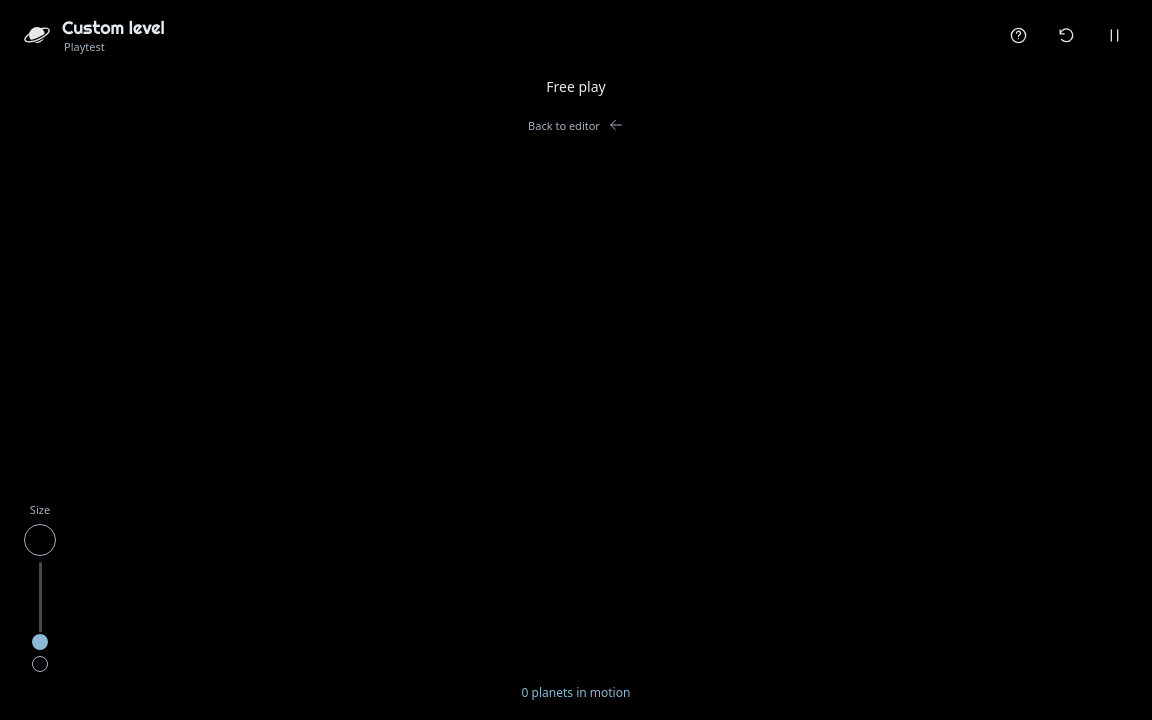
Test: live aim playback and touch feedback › suppresses Gravity feedback for blocked launches, pinch and pause cancellation
Step 1. Press the mouse on the drawing named "Gravity orbital field" → (576,360), box [0,0,1151,719]
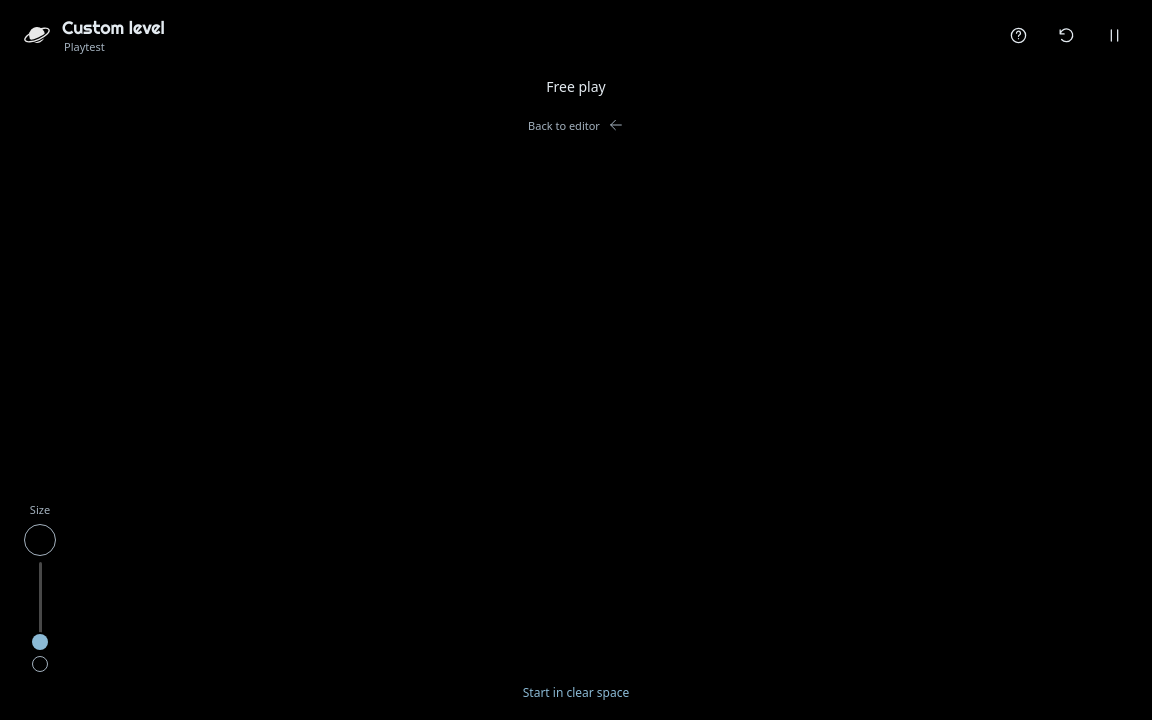
Step 2. Press the mouse on the drawing named "Gravity orbital field" → (576,360), box [0,0,1151,719]
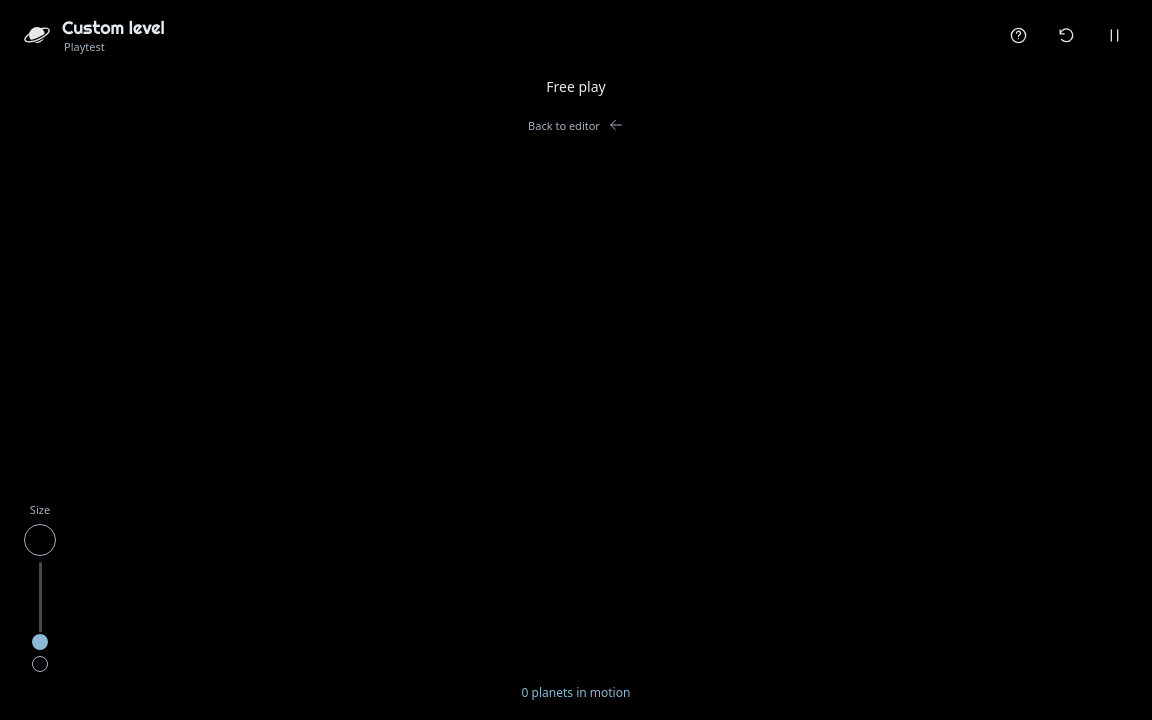
Step 3. Press the mouse on the drawing named "Gravity orbital field" → (576,360), box [0,0,1151,719]
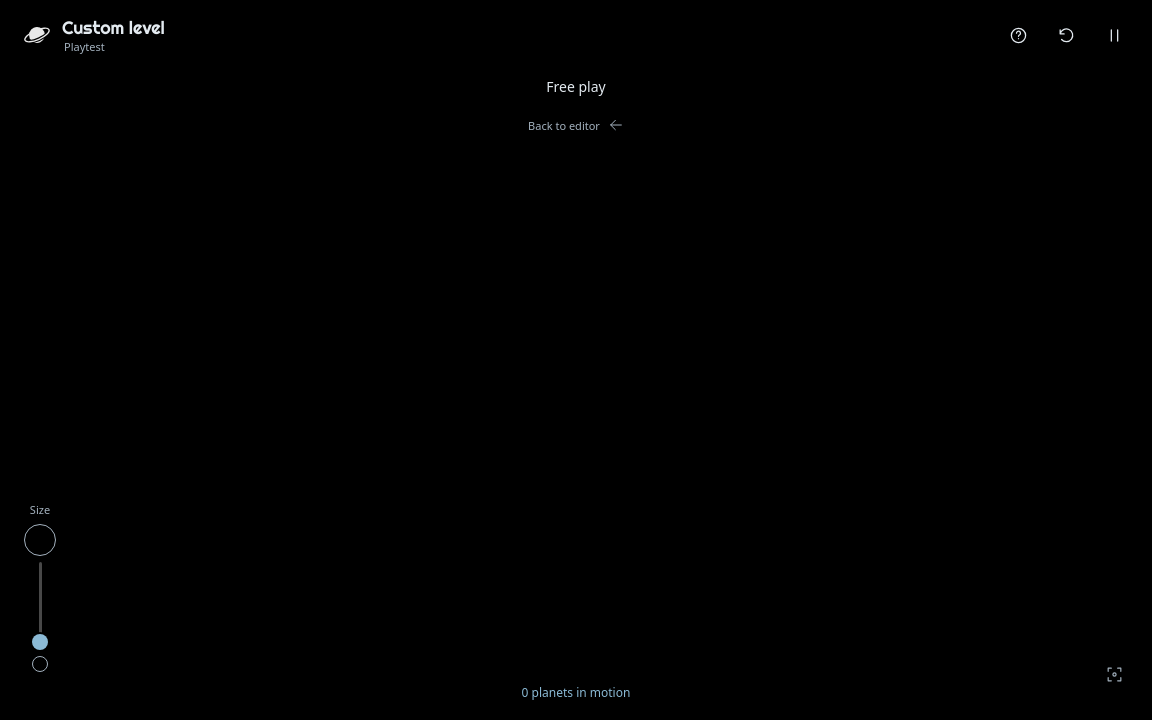
Step 4. Press the mouse on the drawing named "Gravity orbital field" → (576,360), box [0,0,1151,719]
Step 5. Click the button named "Pause" → (1114,35), box [1092,13,1136,57]
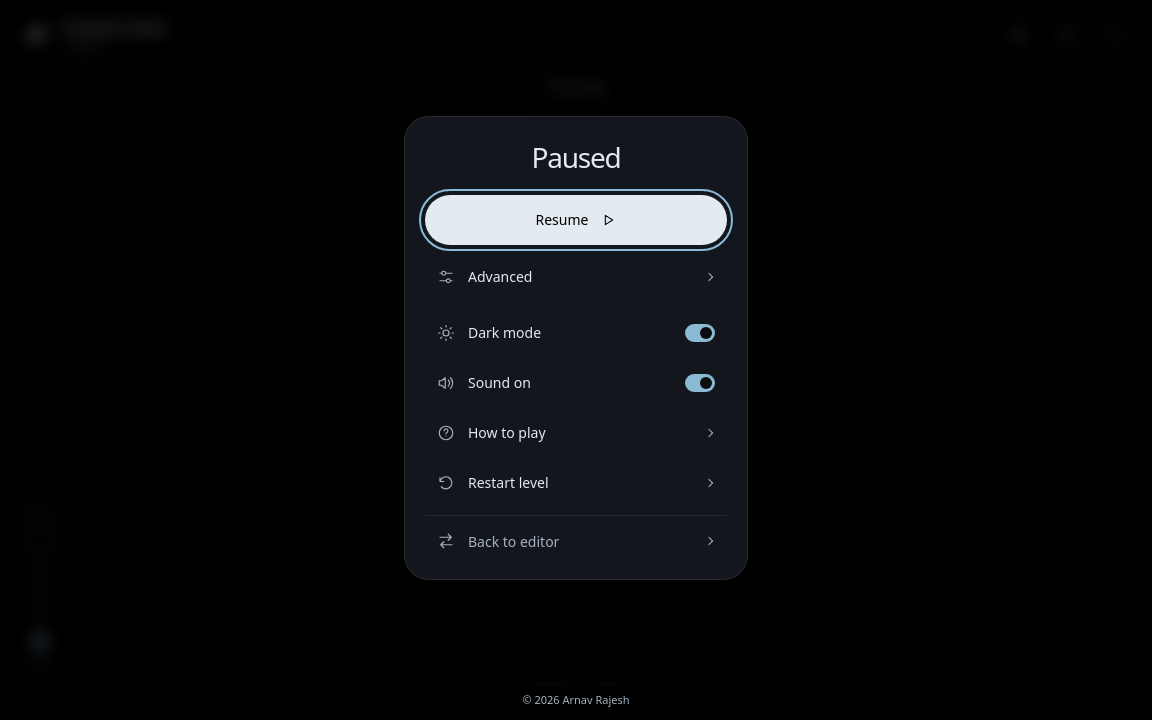
Now the heading "Paused" is shown, box [532,138,620,176]
